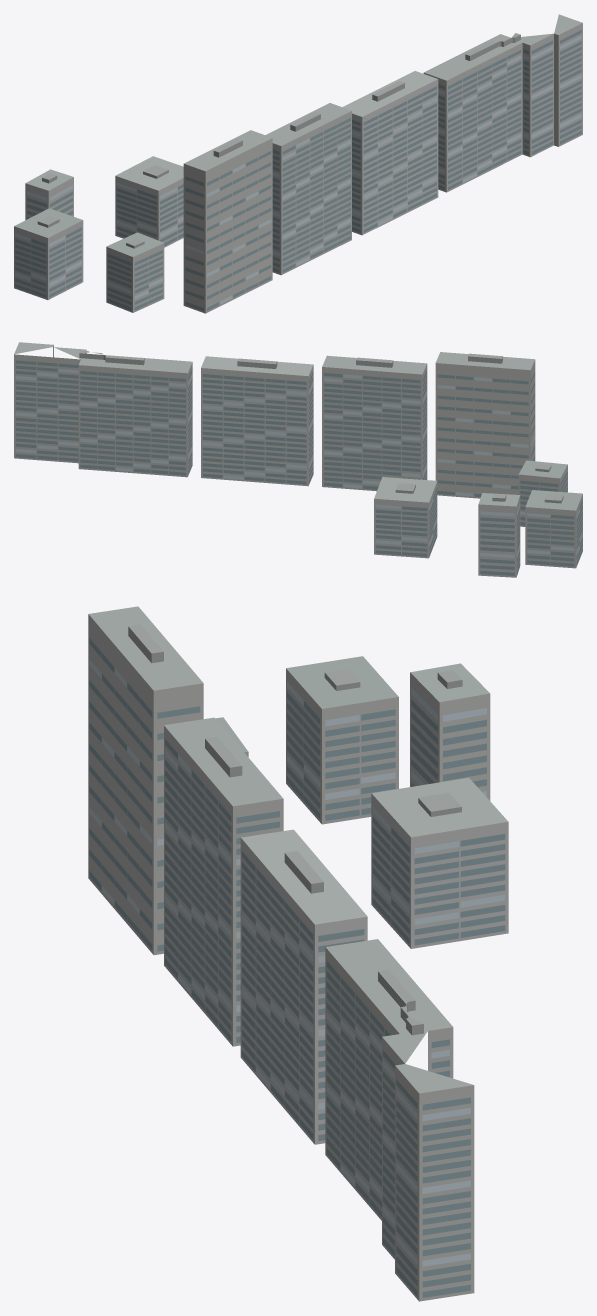
File: apt-a13508012.glb
3 views of the same model, one above another, from view 1: azimuth 30°, elevation 25°; view 2: azimuth 150°, elevation 25°; view 3: azimuth 270°, elevation 25° (orthographic). The views are drawn at different scales.
Visible parts, largest first — view 1: apt-a13508012; view 2: apt-a13508012; view 3: apt-a13508012.
Boxes of the visible parts, bbox=[...] form: apt-a13508012: bbox=[14, 14, 582, 313]; apt-a13508012: bbox=[14, 342, 582, 577]; apt-a13508012: bbox=[88, 606, 508, 1301].
Bounding box in the file's own units: 282 × 68 × 94.43.
